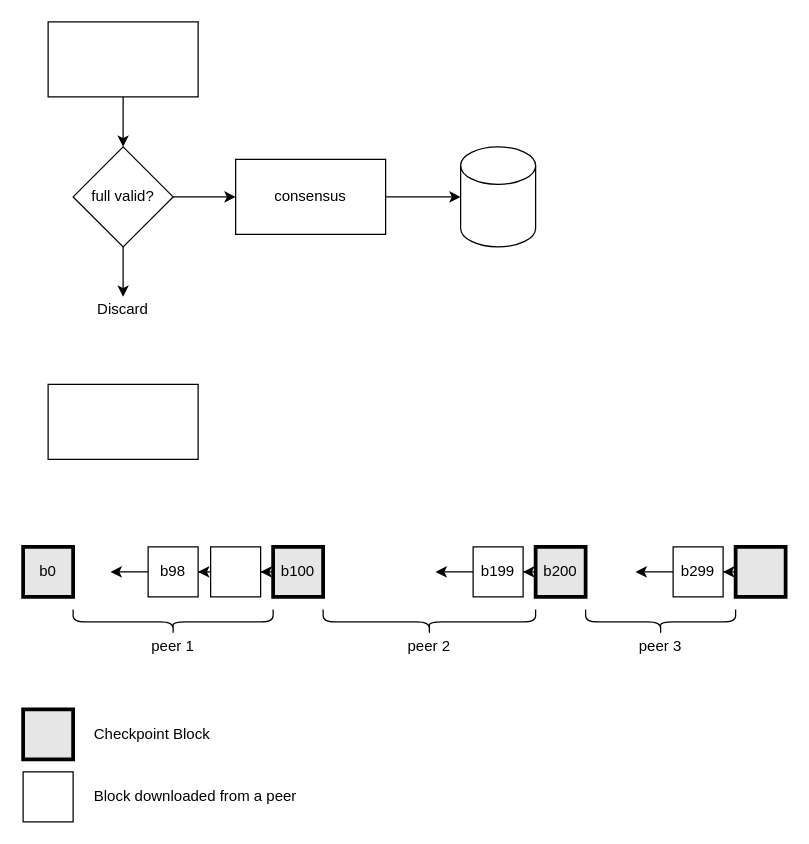
This 809x844 diagram has some shape labels left out. Here are the shapes that lost their labels. From the top down, the centre of each, then its label:
At (122,59): "p2p real-time tx".
At (497,196): "storage".
At (122,421): "p2p sync tx".
At (235,571): "b99".
At (760,571): "b300".
